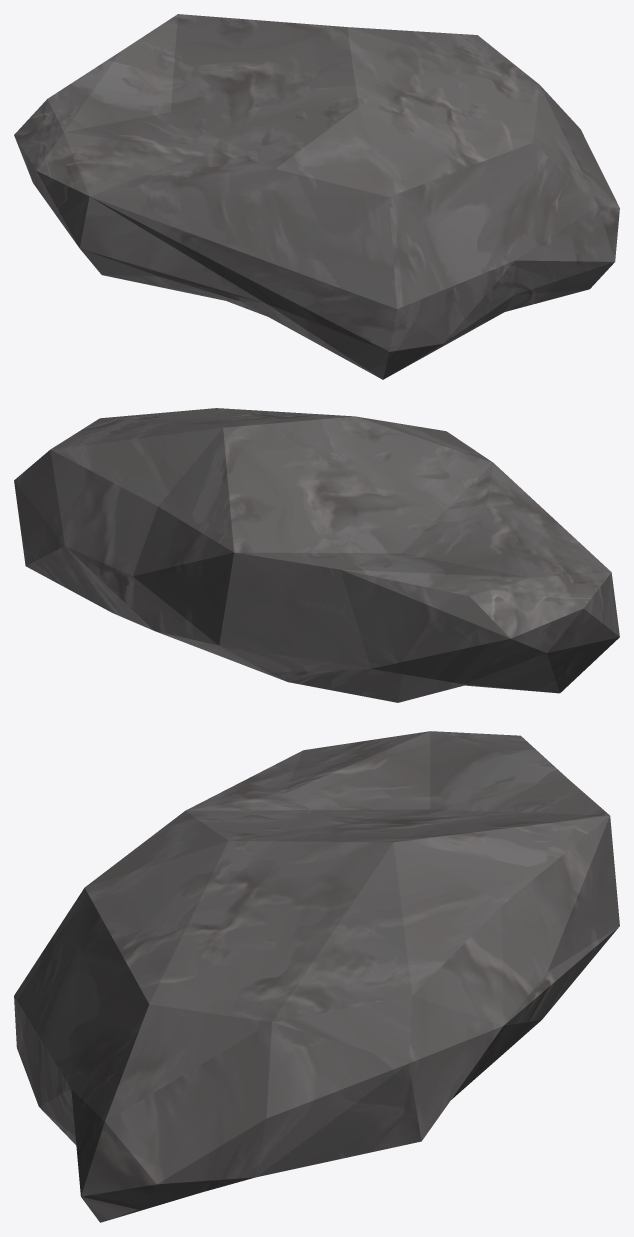
Rendered from rock_lowpoly_textured.fbx.
3 views of the same model, one above another, from view 1: azimuth 30°, elevation 25°; view 2: azimuth 150°, elevation 25°; view 3: azimuth 270°, elevation 25° (orthographic). The views are drawn at different scales.
Visible parts, largest first — view 1: Cube; view 2: Cube; view 3: Cube.
Boxes of the visible parts, x1,y1,x2,y2 form: Cube: (14,14,619,379); Cube: (14,408,619,702); Cube: (14,731,619,1222).
Size of the model in its own units: 311 by 156 by 245.
